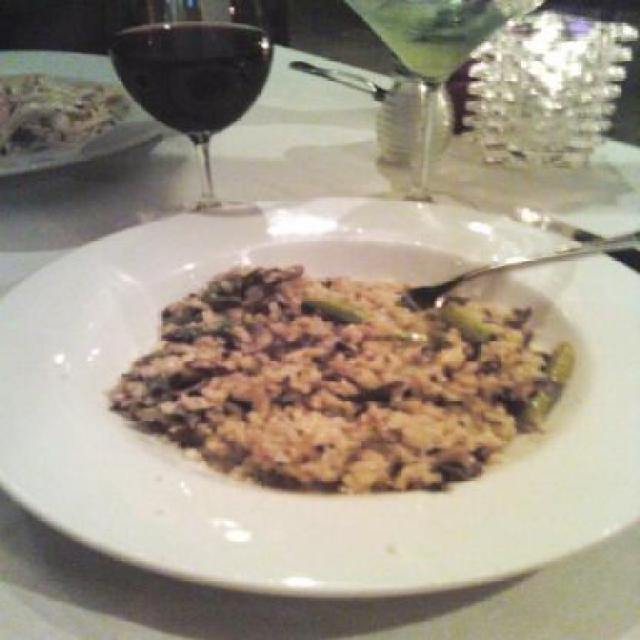Risotto: (117, 248, 568, 502)
